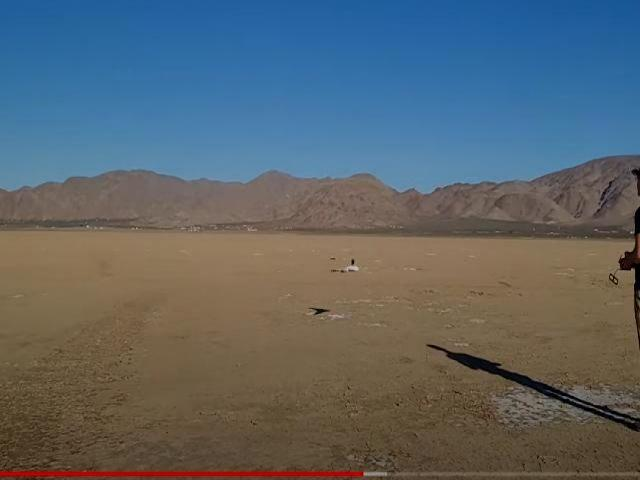iha: (330, 257, 361, 277)
